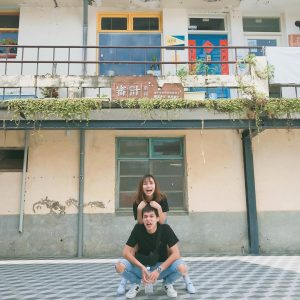people: (134, 174, 195, 293), (115, 202, 185, 298)
